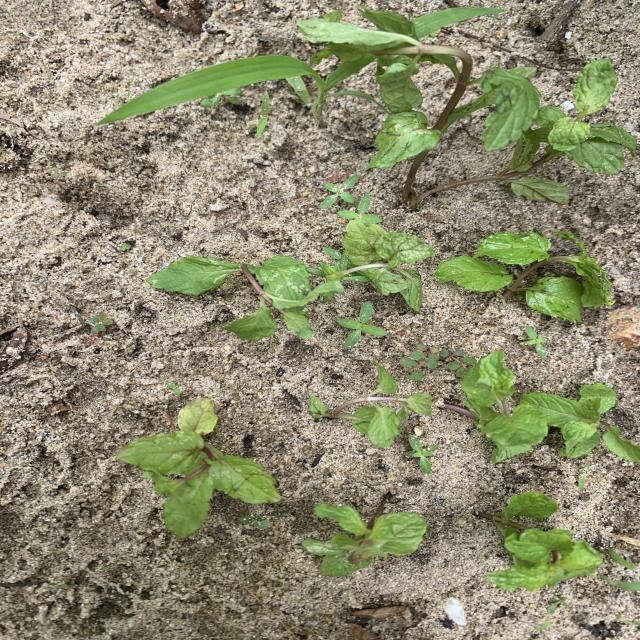crop: (299, 11, 637, 210), (117, 399, 279, 536), (454, 351, 638, 463), (436, 232, 612, 320), (148, 256, 315, 339), (480, 492, 602, 590), (309, 361, 431, 446), (303, 499, 426, 575), (339, 217, 428, 311)
weed: (96, 51, 374, 125), (411, 8, 505, 37), (337, 302, 386, 347), (400, 345, 446, 379), (322, 175, 359, 206), (339, 195, 379, 223), (408, 437, 436, 472), (442, 350, 475, 374), (520, 326, 547, 355), (88, 313, 114, 331), (609, 550, 635, 568), (604, 578, 639, 591), (238, 516, 271, 528), (548, 597, 567, 611), (578, 463, 587, 490), (536, 619, 551, 631), (167, 382, 180, 395), (51, 168, 67, 177), (119, 243, 130, 250)
